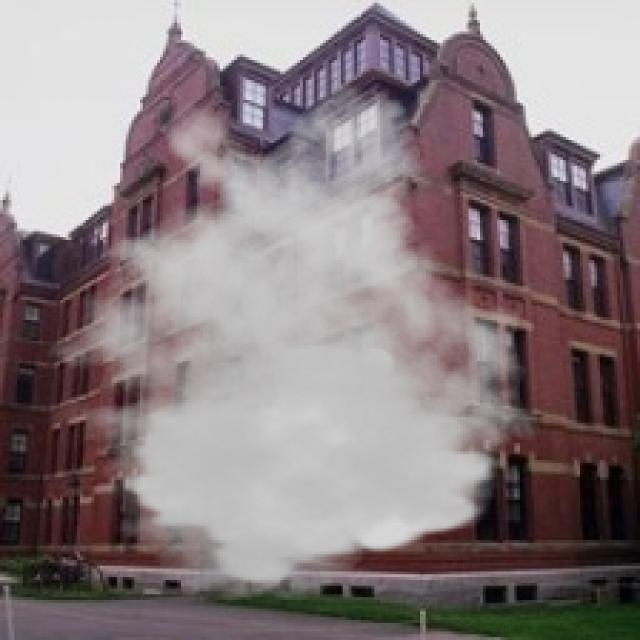smoke: (23, 83, 548, 603)
